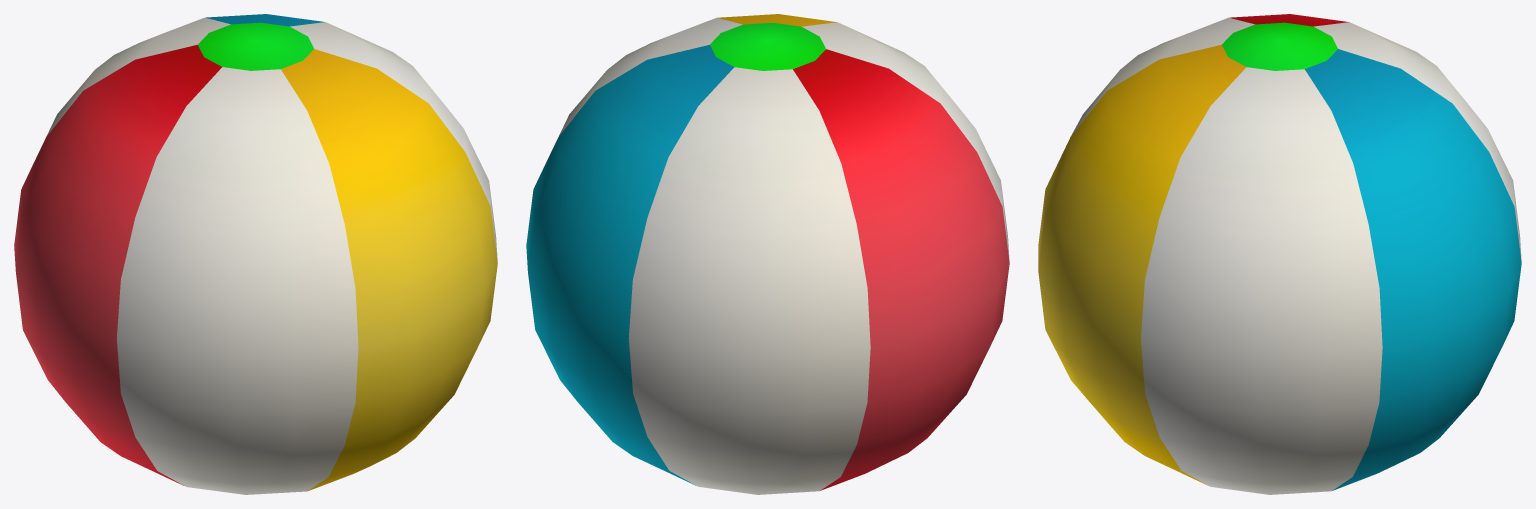
The model's file is Ball.fbx.
3 renders of one model, left to right at view 1: azimuth 30°, elevation 25°; view 2: azimuth 150°, elevation 25°; view 3: azimuth 270°, elevation 25°, orthographic.
Parts seen in each view (by area): view 1: Ball; view 2: Ball; view 3: Ball.
Boxes of the visible parts, x1,y1,x2,y2 form: Ball: (14,14,497,494); Ball: (526,14,1009,494); Ball: (1038,14,1521,494).
Size of the model in its own units: 2701 by 2657 by 2701.
1 material, 1 textured.
